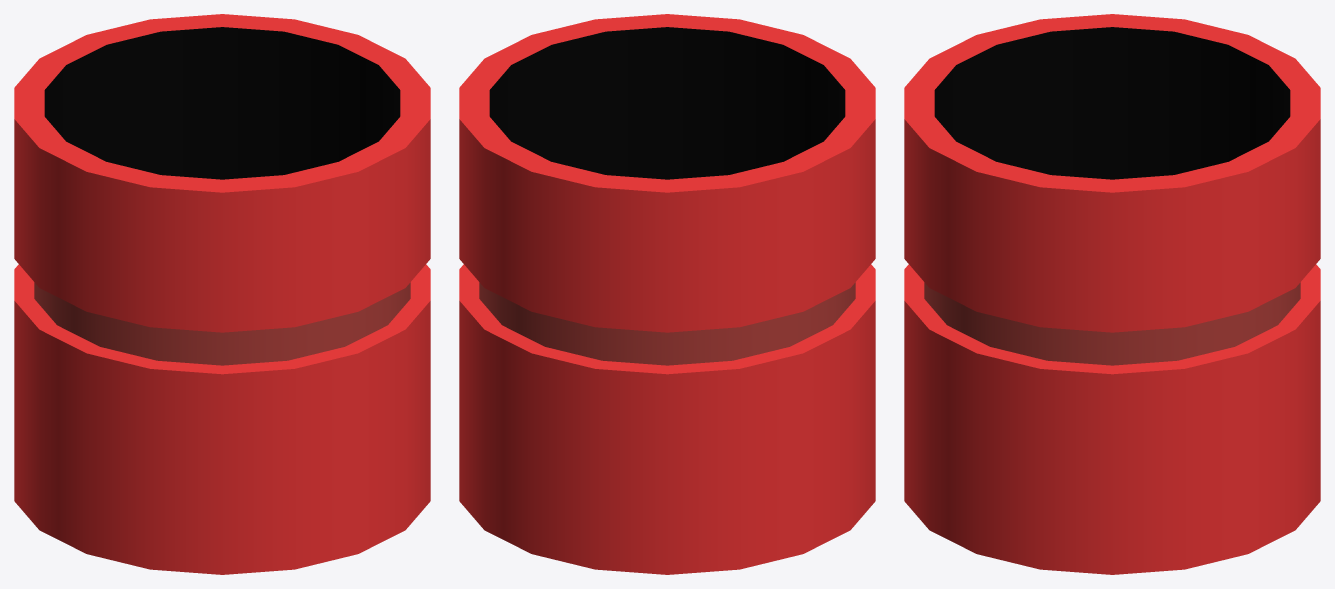
File: Bomb_Spawn.FBX
3 renders of one model, left to right at view 1: azimuth 30°, elevation 25°; view 2: azimuth 150°, elevation 25°; view 3: azimuth 270°, elevation 25°, orthographic.
Visible parts, largest first — view 1: Bomb_Spawn; view 2: Bomb_Spawn; view 3: Bomb_Spawn.
Boxes of the visible parts, x1,y1,x2,y2 form: Bomb_Spawn: (14,14,430,574); Bomb_Spawn: (459,14,875,574); Bomb_Spawn: (904,14,1320,574).
Size of the model in its own units: 87.53 by 87.32 by 86.2.
